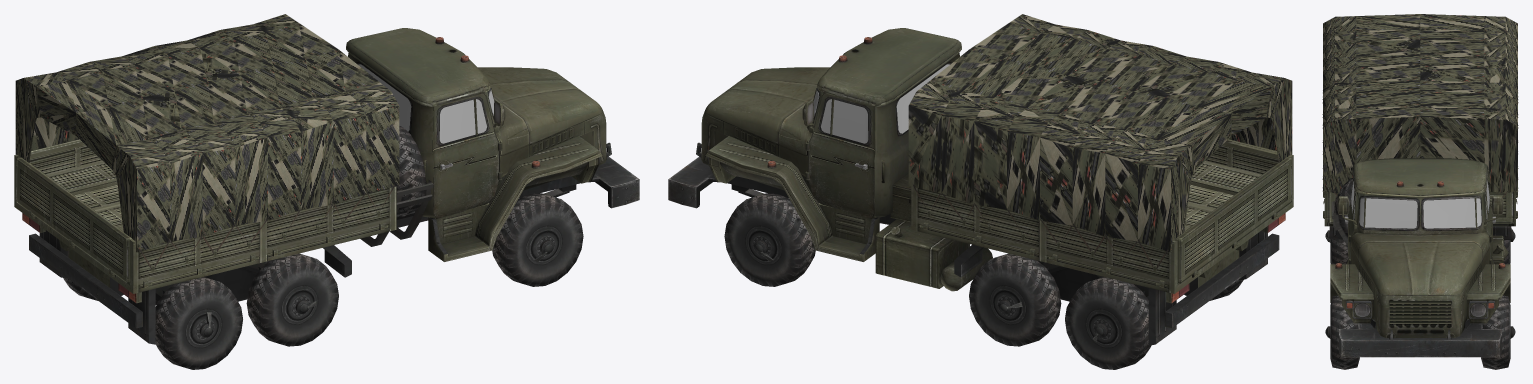
The model's file is ural.glb.
3 views of the same model, side by side, from view 1: azimuth 30°, elevation 25°; view 2: azimuth 150°, elevation 25°; view 3: azimuth 270°, elevation 25° (orthographic). The views are drawn at different scales.
Visible parts, largest first — view 1: ural, canvas; view 2: ural, canvas; view 3: ural, canvas.
Boxes of the visible parts, left/top/right/bottom form: ural: left=14, top=28, right=639, bottom=369; canvas: left=15, top=14, right=399, bottom=252; ural: left=668, top=28, right=1293, bottom=369; canvas: left=908, top=14, right=1292, bottom=252; ural: left=1322, top=96, right=1518, bottom=369; canvas: left=1323, top=14, right=1517, bottom=193.
Size of the model in its own units: 7.37 by 3.19 by 2.98.
Materials: 2 (1 with a texture image).
